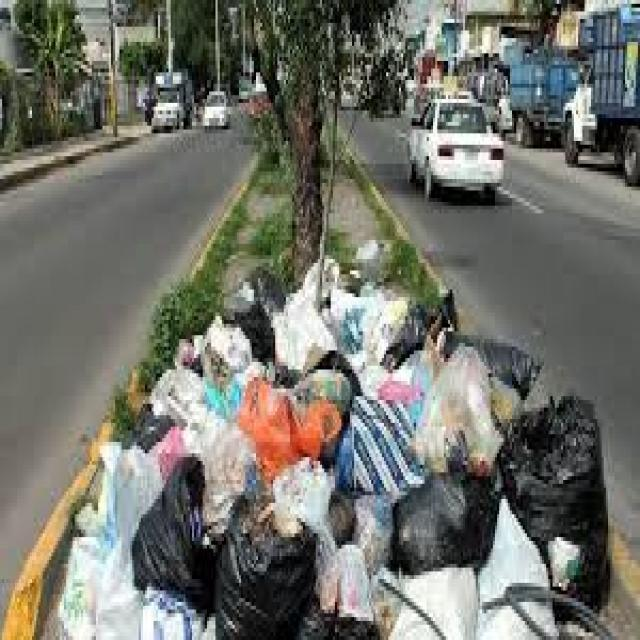garbage: (96, 292, 498, 640), (502, 394, 616, 621)
